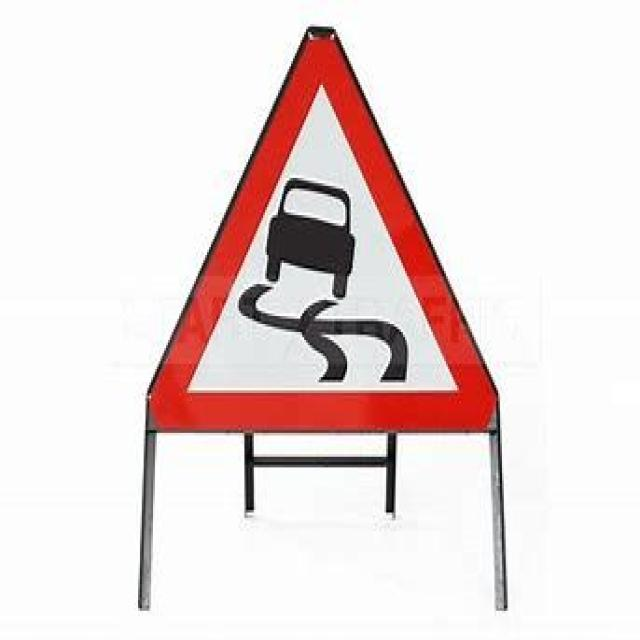children: (150, 37, 494, 433)
